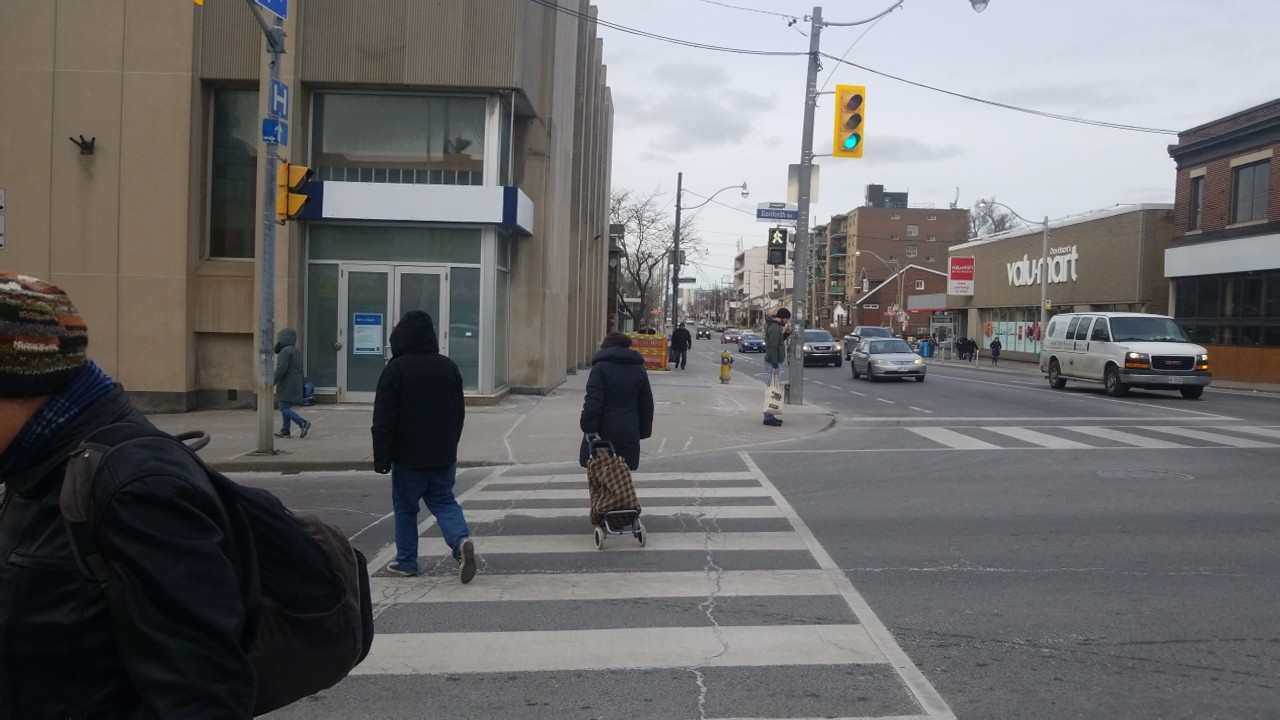light: (763, 224, 789, 268)
